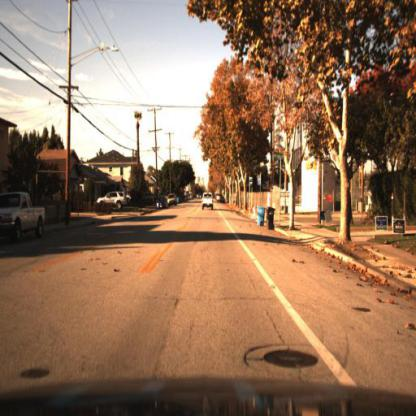car: (1, 190, 48, 246), (96, 189, 130, 208), (201, 191, 216, 213), (155, 194, 172, 211), (168, 193, 180, 211)
